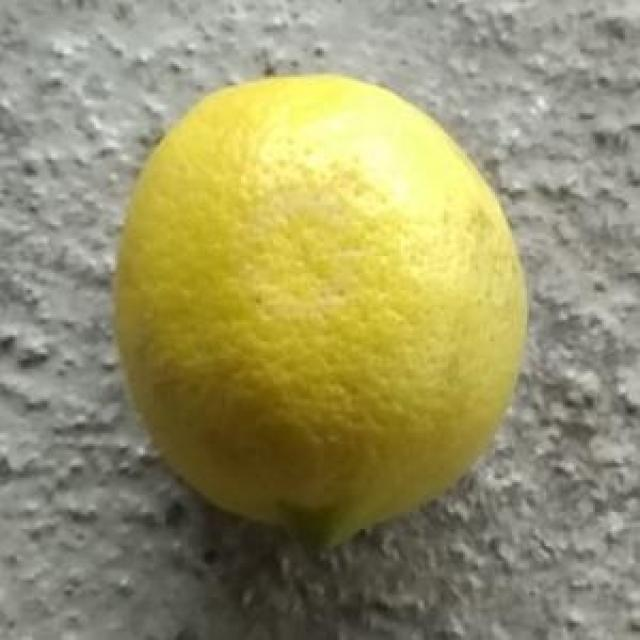lemon: (114, 70, 526, 553)
